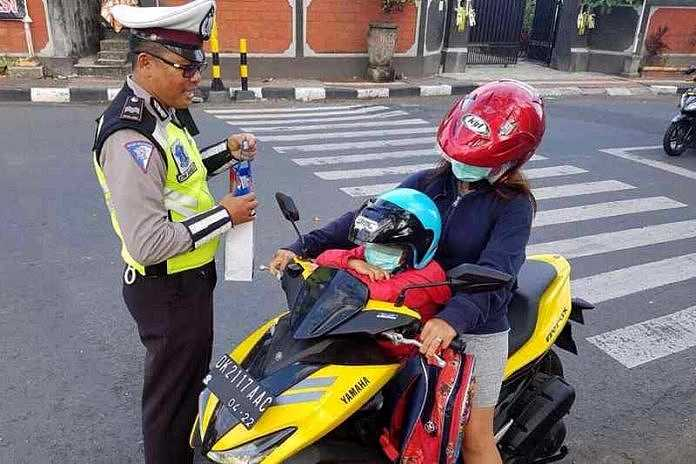plate: (210, 352, 272, 425)
